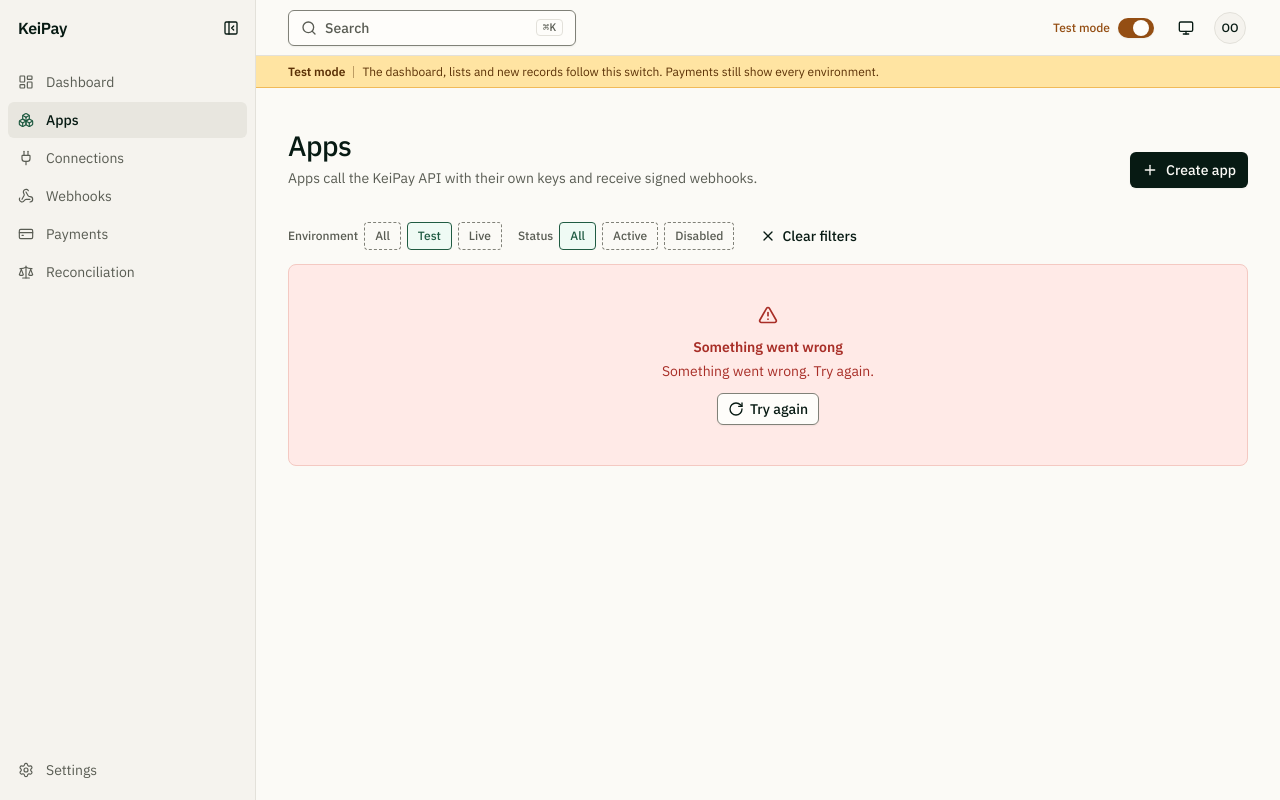
Test case: Apps page › shows an error with retry
What coordinates should you click on to do the following:
click the button "Try again"
I would click on:
 (768, 409)
Its box is [717,393,819,425].
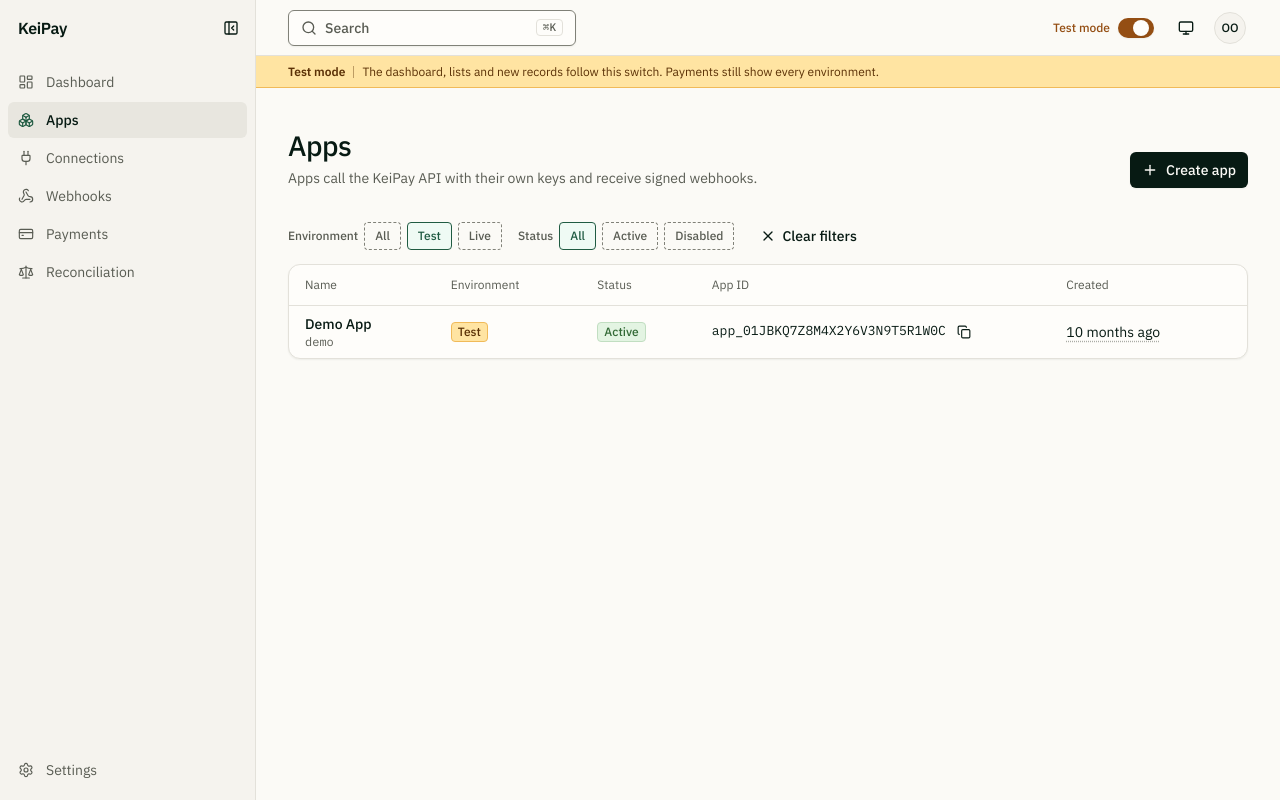
Expected: the link "Demo App" is shown, [305,314,372,332]
